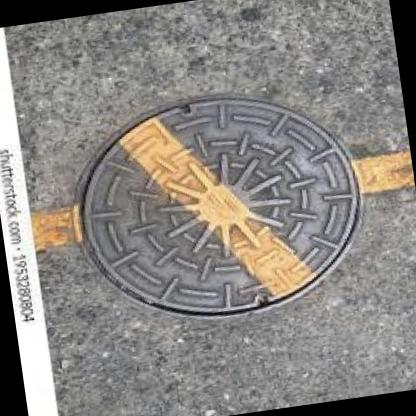manholes: (37, 38, 402, 380)
